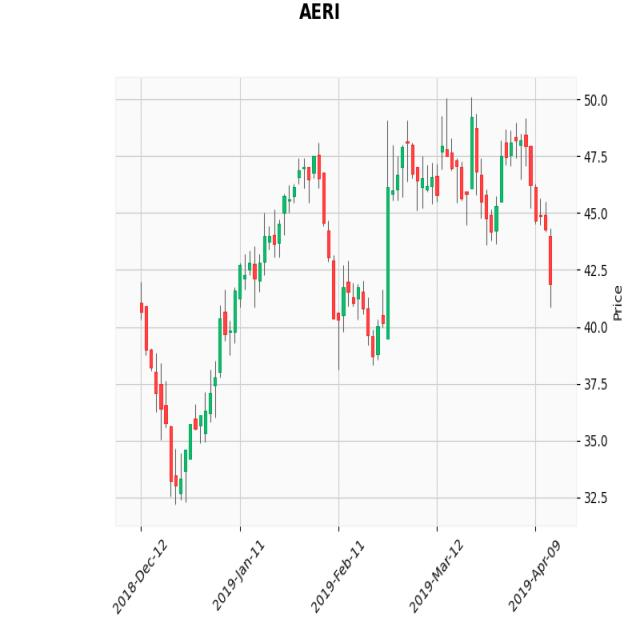Double-Bottom: (316, 152, 395, 362)
